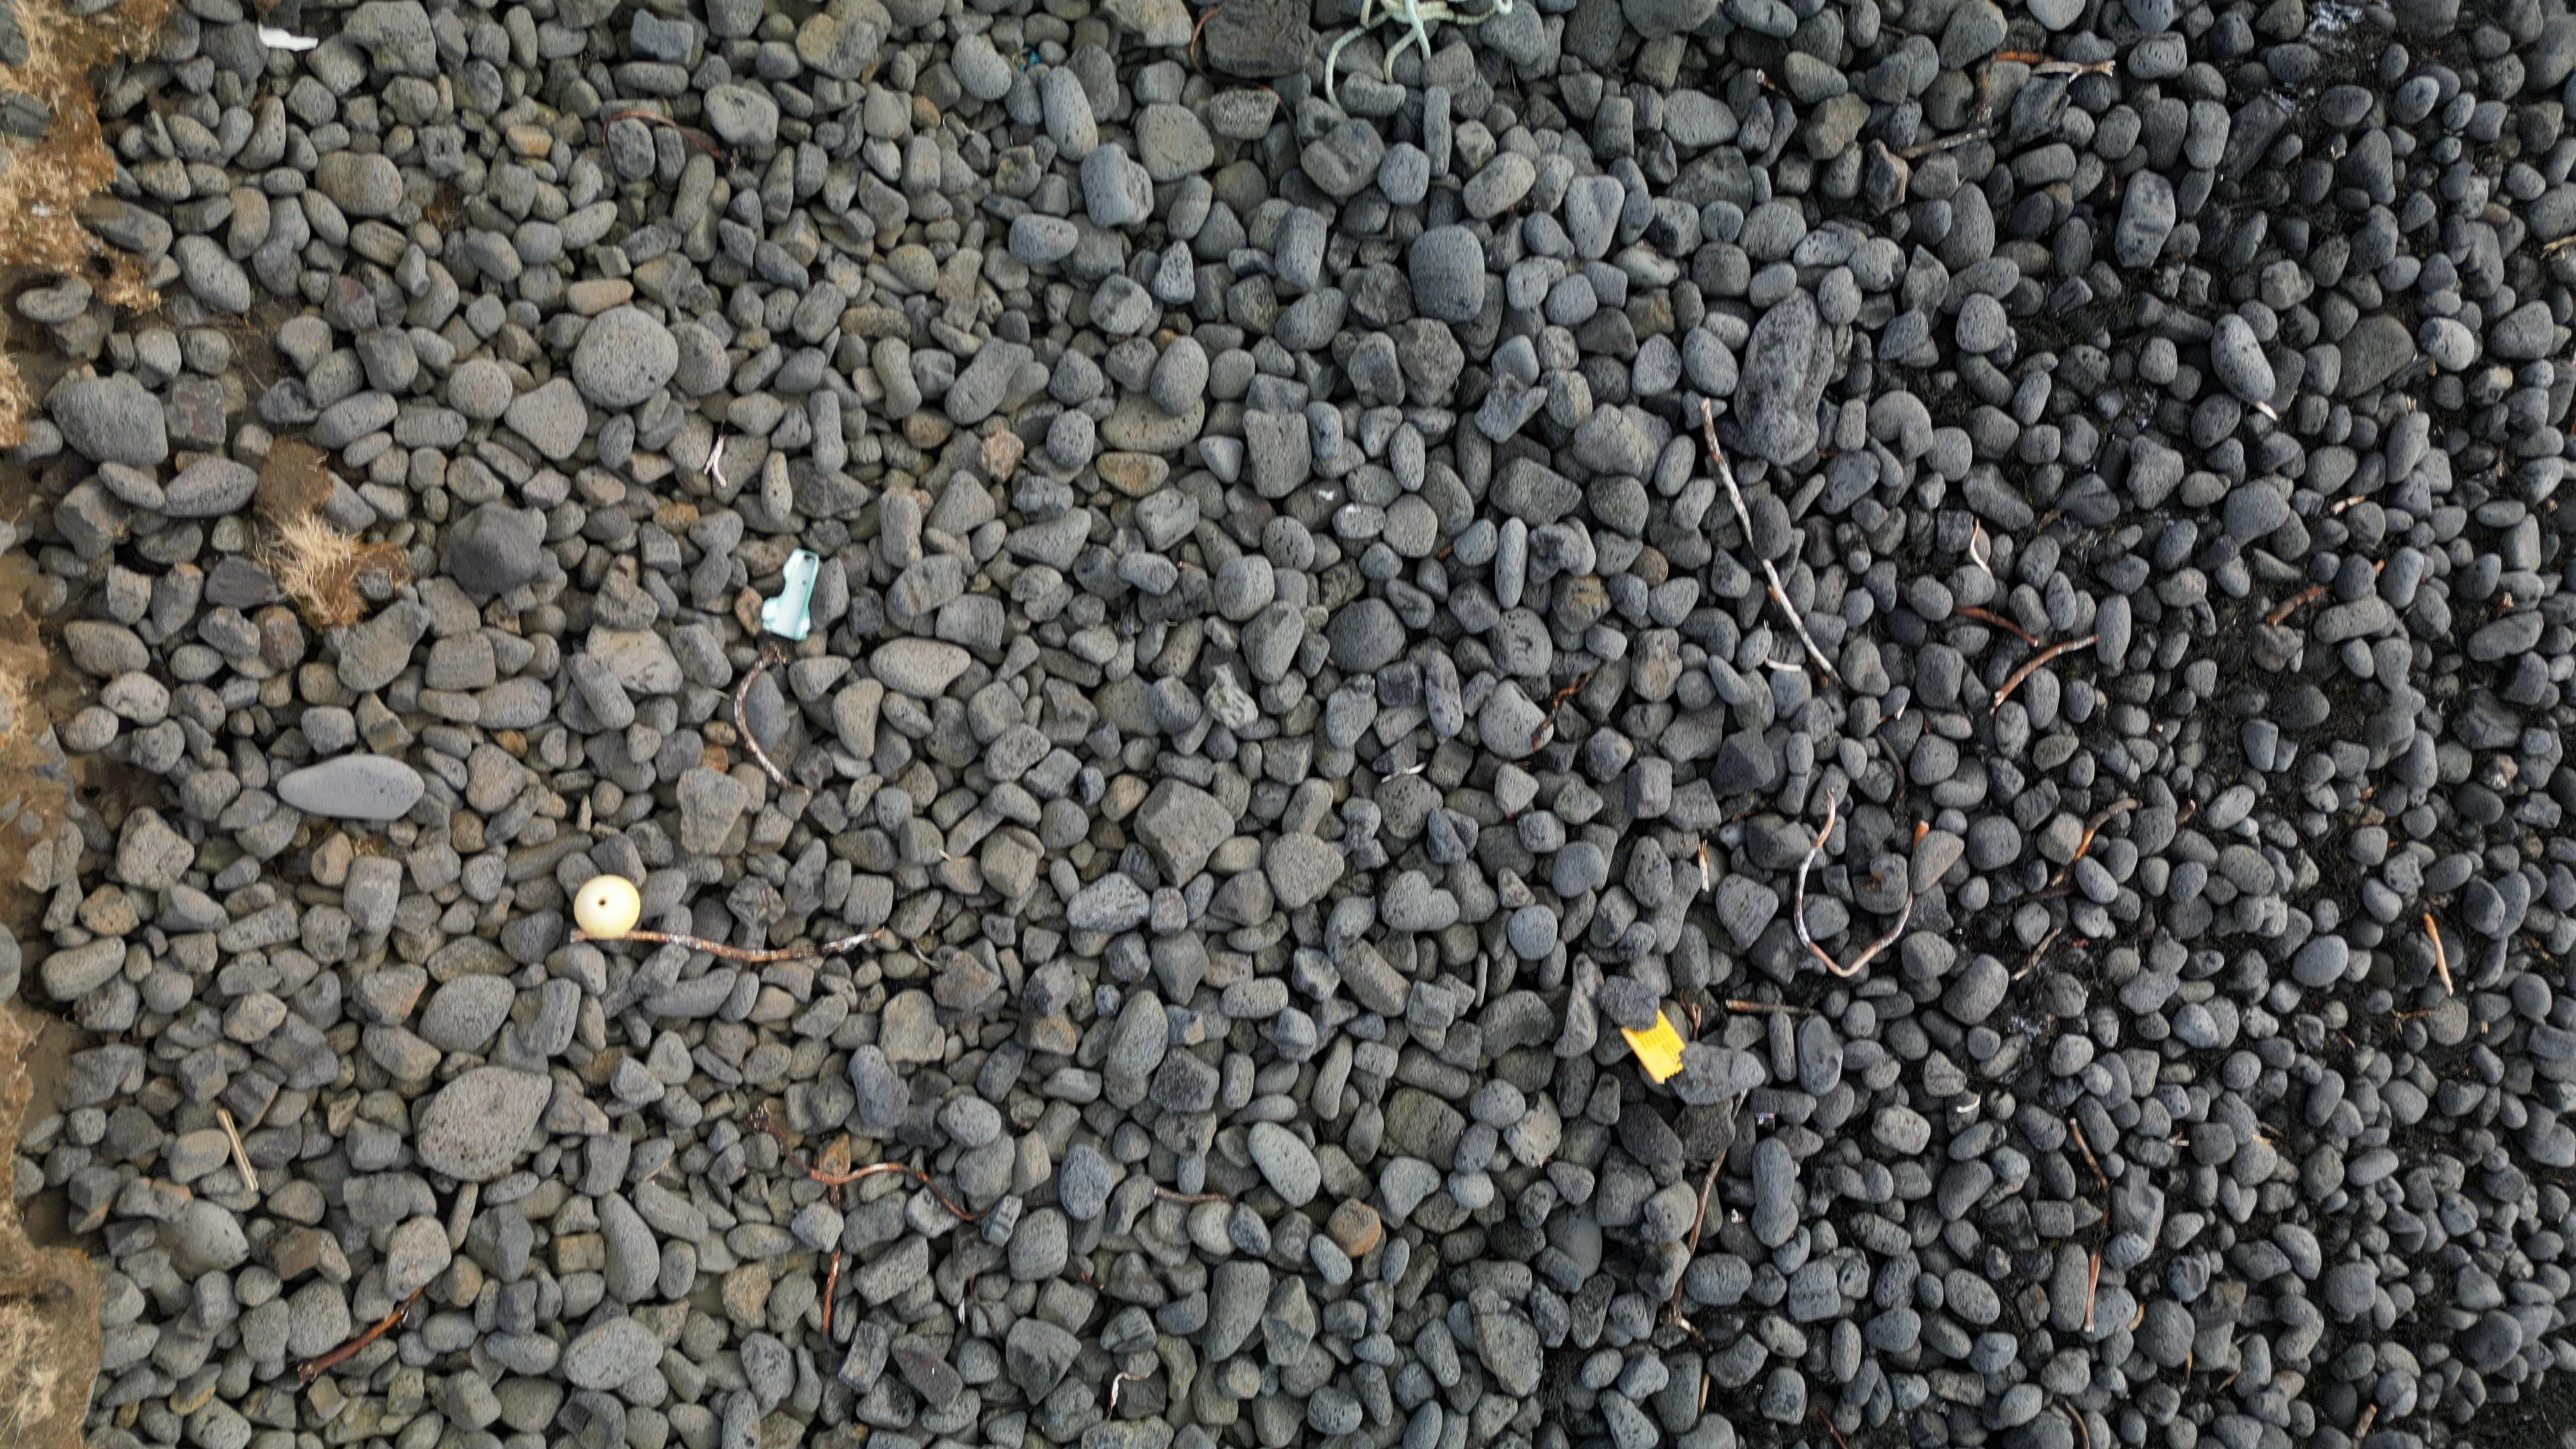trash: (1323, 0, 1515, 106), (759, 549, 820, 639), (1620, 1012, 1685, 1081), (574, 875, 639, 941)
